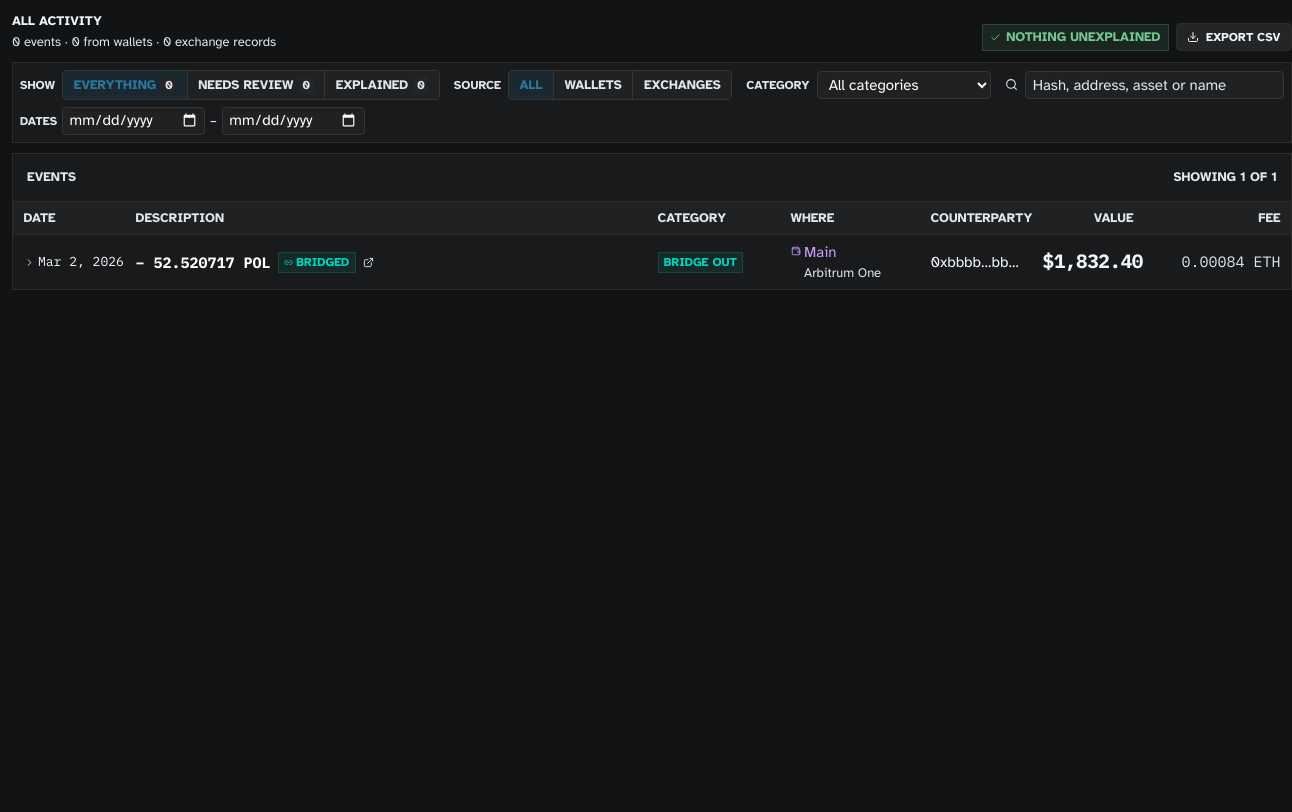
CryptoLedger › renders every source transaction in a many-to-one bridge settlement
What coordinates should you click on to do the following:
click the text "− 52.520717 POL"
I would click on:
 (203, 262)
Its box is [136, 252, 270, 273].
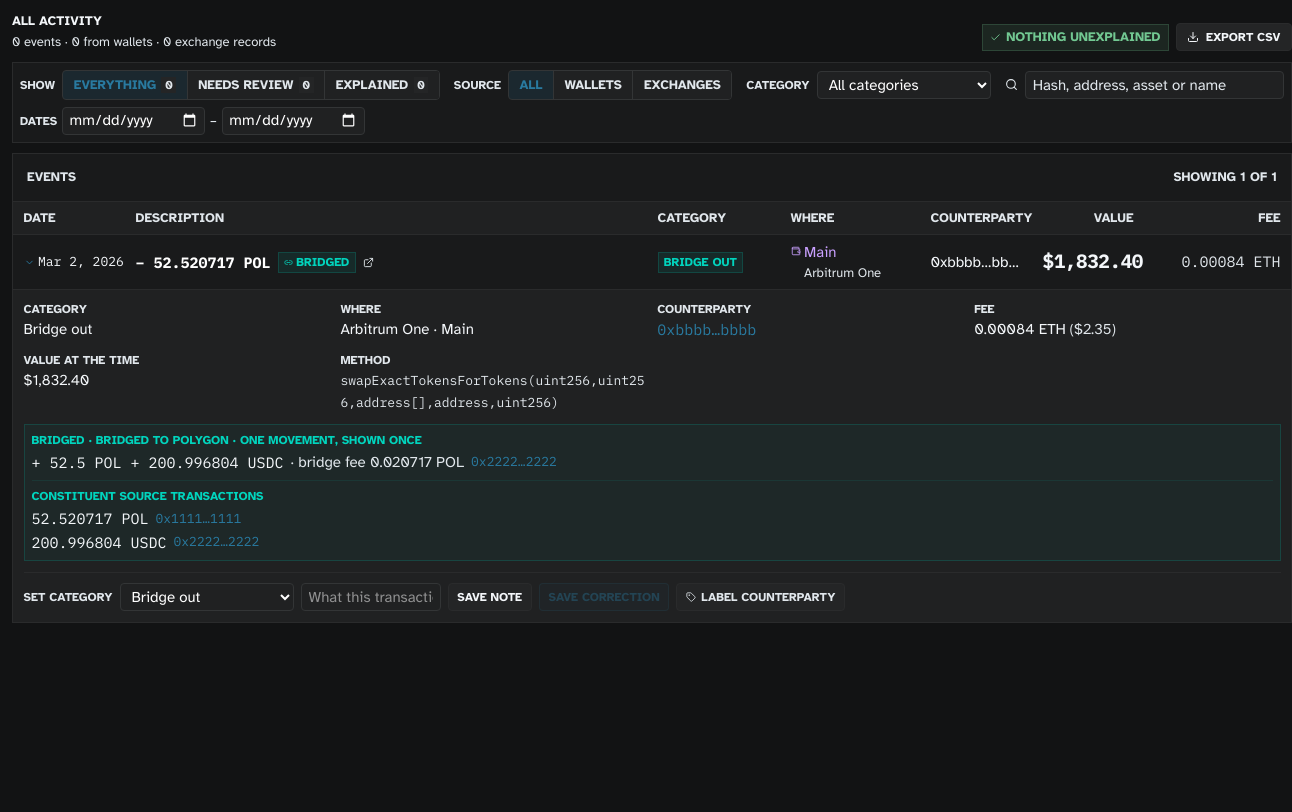
Expected: the text "Constituent source transactions" is shown, [32, 490, 264, 504]
Expected: the text "52.520717 POL" is shown, [32, 508, 148, 530]
Expected: the text "200.996804 USDC" is shown, [32, 532, 166, 554]
